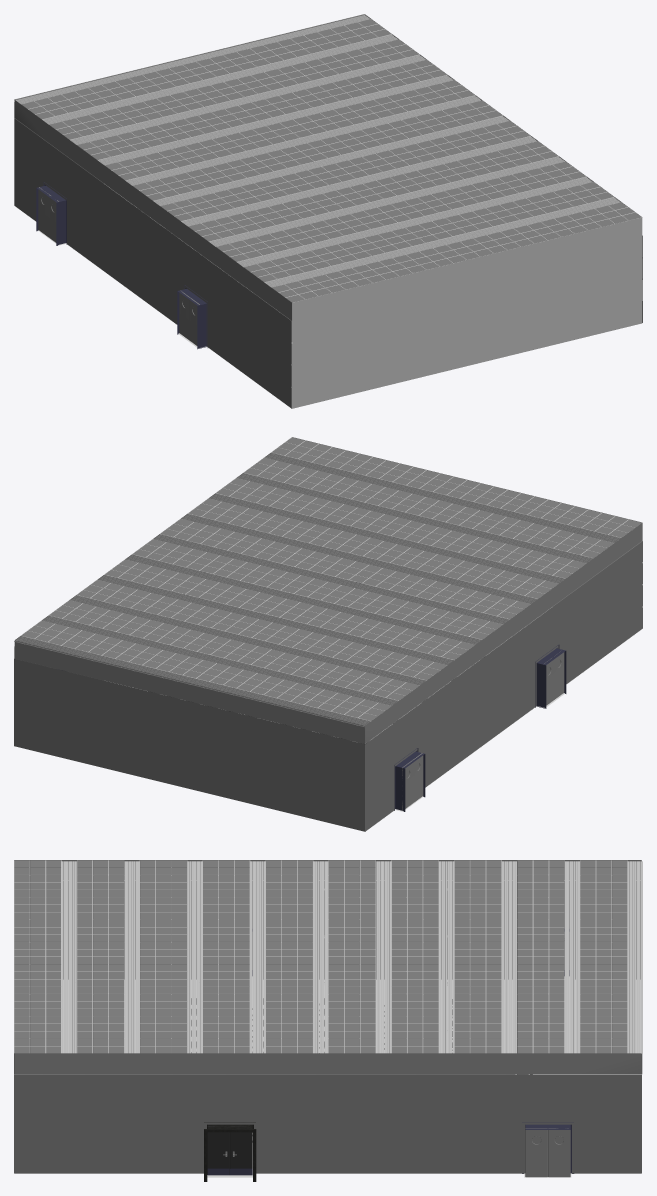
File: VR ROOM.fbx
The picture shows the model from 3 angles, top to bottom: view 1: azimuth 30°, elevation 25°; view 2: azimuth 150°, elevation 25°; view 3: azimuth 270°, elevation 25°; orthographic projection. The views are drawn at different scales.
Parts seen in each view (by area): view 1: ceiling_black_0, walls_black_0, ceiling_white_0, Plane.001, ceiling_white_0.001, door.001_walls_0, door.002_walls_0, door.001_black_0, door.002_black_0; view 2: ceiling_black_0, Plane.001, ceiling_white_0, walls_black_0, ceiling_white_0.001, door.001_walls_0, door.002_walls_0, door.002_black_0, door.001_black_0; view 3: ceiling_black_0, Plane.001, ceiling_white_0, walls_black_0, ceiling_white_0.001, walls_floor_0, door.003_black_0, door_walls_0, door_black_0, door_black_0.001.
Boxes of the visible parts, box(x1,y1,x2,y2) form: ceiling_black_0: box(21, 19, 641, 302); walls_black_0: box(14, 14, 642, 408); ceiling_white_0: box(14, 14, 641, 302); Plane.001: box(14, 118, 642, 408); ceiling_white_0.001: box(42, 34, 446, 159); door.001_walls_0: box(177, 285, 207, 349); door.002_walls_0: box(36, 182, 66, 245); door.001_black_0: box(179, 290, 199, 345); door.002_black_0: box(38, 187, 58, 242); ceiling_black_0: box(22, 437, 641, 720); Plane.001: box(14, 541, 642, 831); ceiling_white_0: box(14, 440, 634, 726); walls_black_0: box(14, 437, 642, 743); ceiling_white_0.001: box(42, 583, 433, 705); door.001_walls_0: box(535, 644, 566, 708); door.002_walls_0: box(394, 748, 425, 811); door.002_black_0: box(402, 753, 423, 810); door.001_black_0: box(544, 651, 564, 705); ceiling_black_0: box(14, 860, 627, 1053); Plane.001: box(14, 881, 641, 1173); ceiling_white_0: box(14, 860, 642, 1054); walls_black_0: box(14, 860, 642, 1074); ceiling_white_0.001: box(455, 860, 577, 1053); walls_floor_0: box(14, 976, 641, 1177); door.003_black_0: box(525, 1128, 570, 1177); door_walls_0: box(204, 1122, 256, 1181); door_black_0: box(207, 1126, 229, 1174); door_black_0.001: box(230, 1126, 252, 1168).
Bounding box in the file's own units: 1707 × 466 × 2200.
16 materials, 2 textured.
